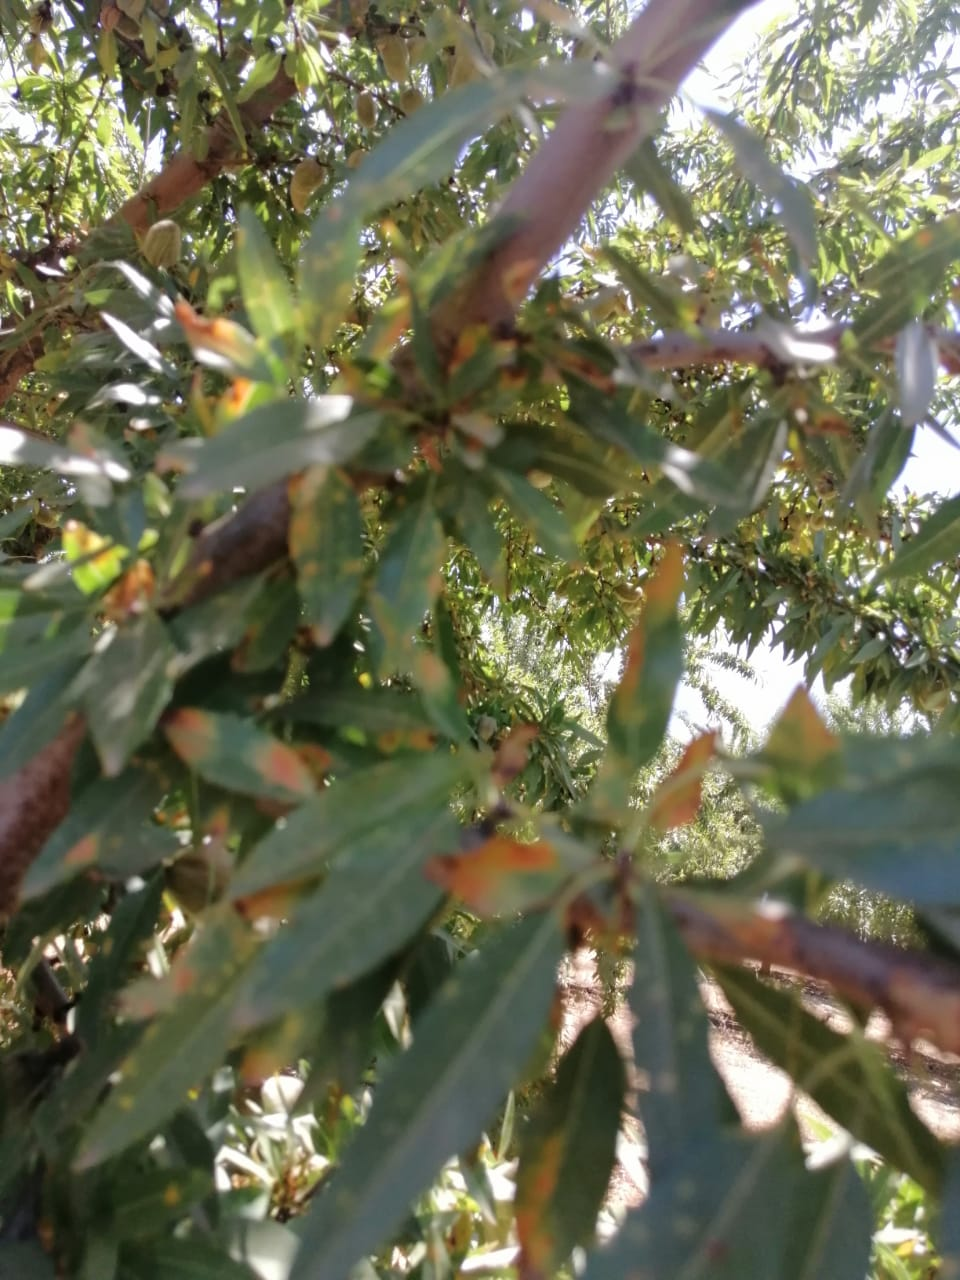polystigma: (424, 835, 606, 929), (160, 703, 310, 804)
